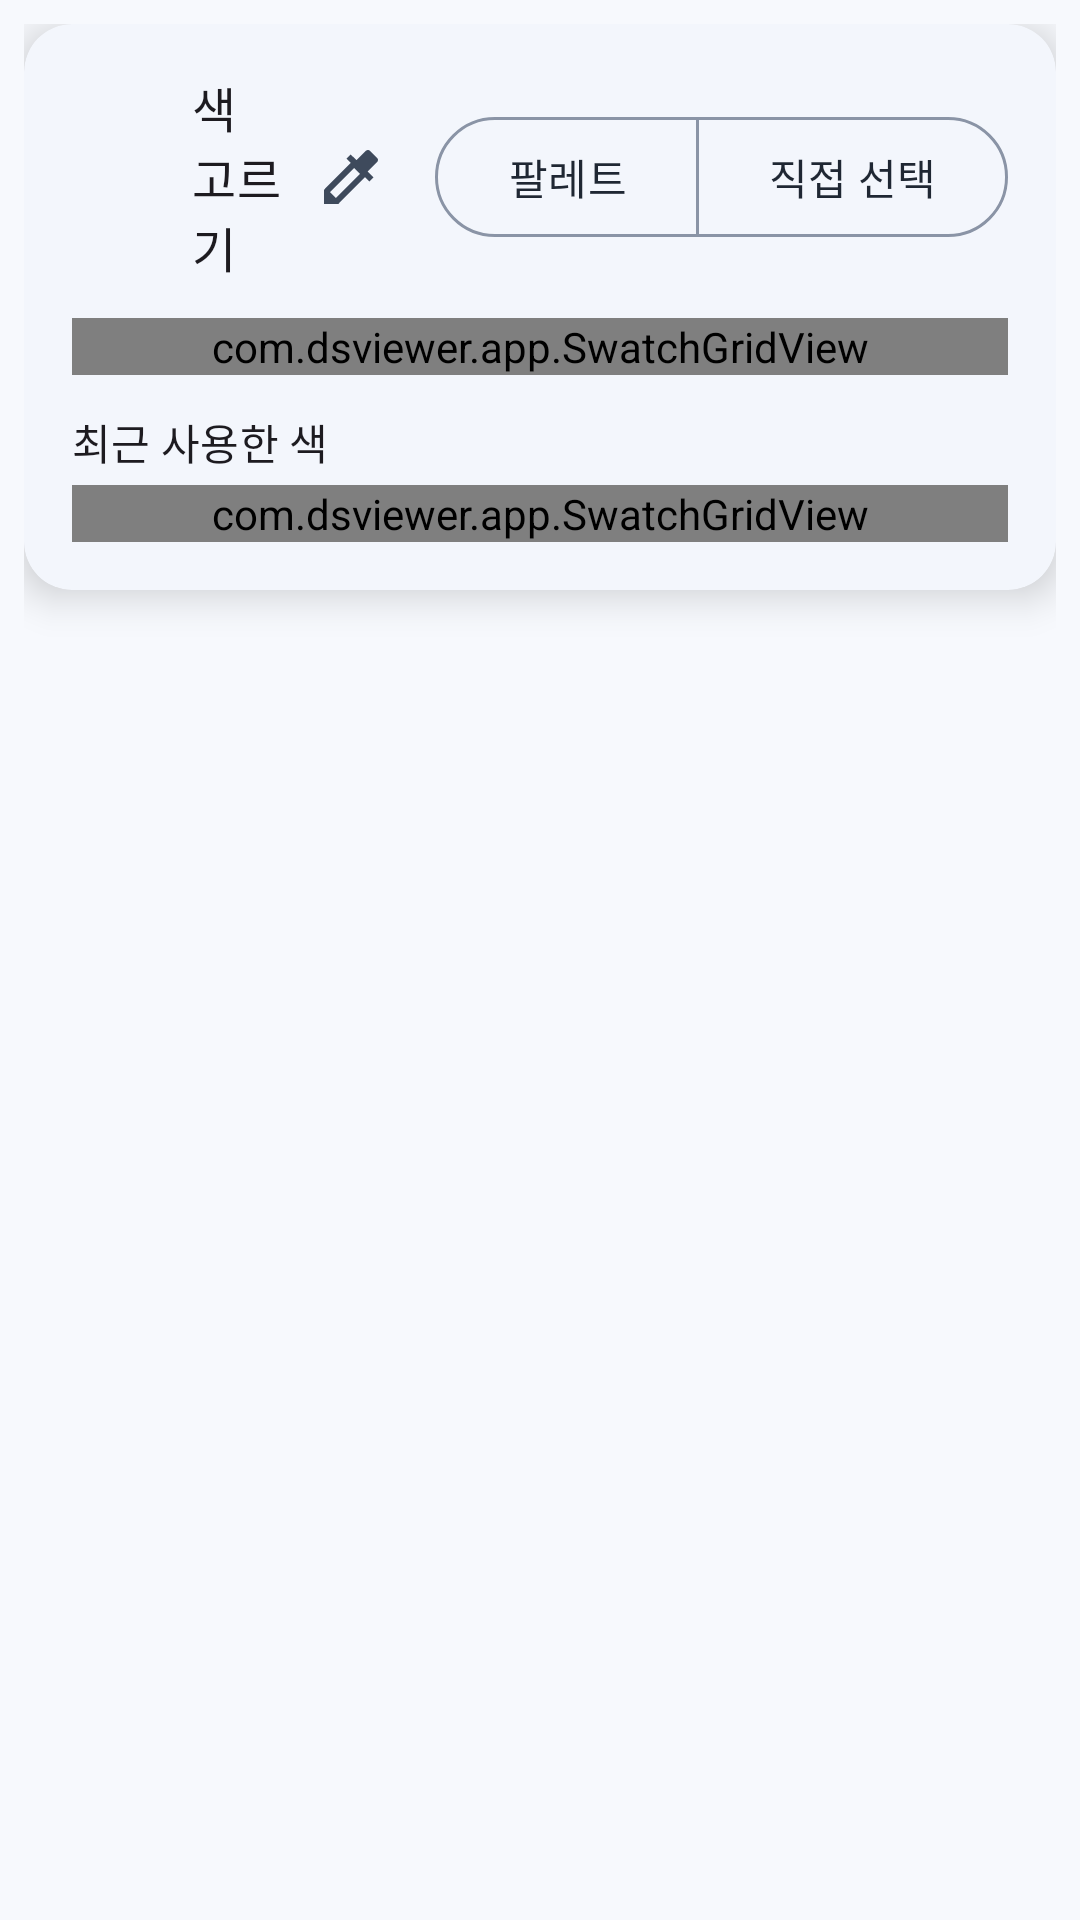

Named icons in this screenshot (1080px x 1920px) and their centers, [x,y]:
eyedropper: [351,177]
